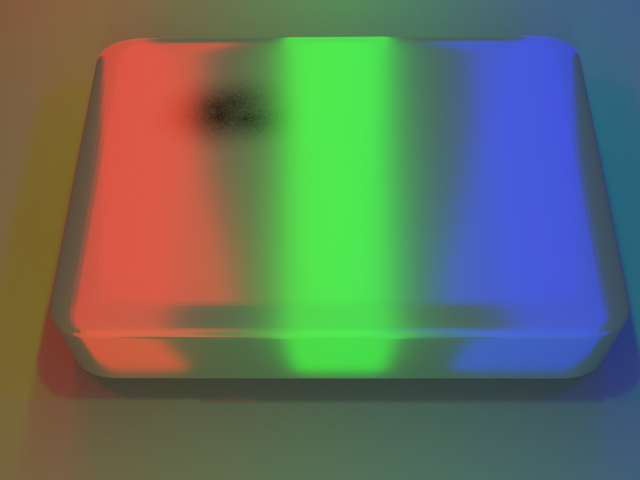stain: (100, 44, 313, 159)
